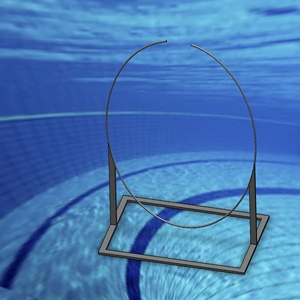circle: (102, 38, 271, 274)
